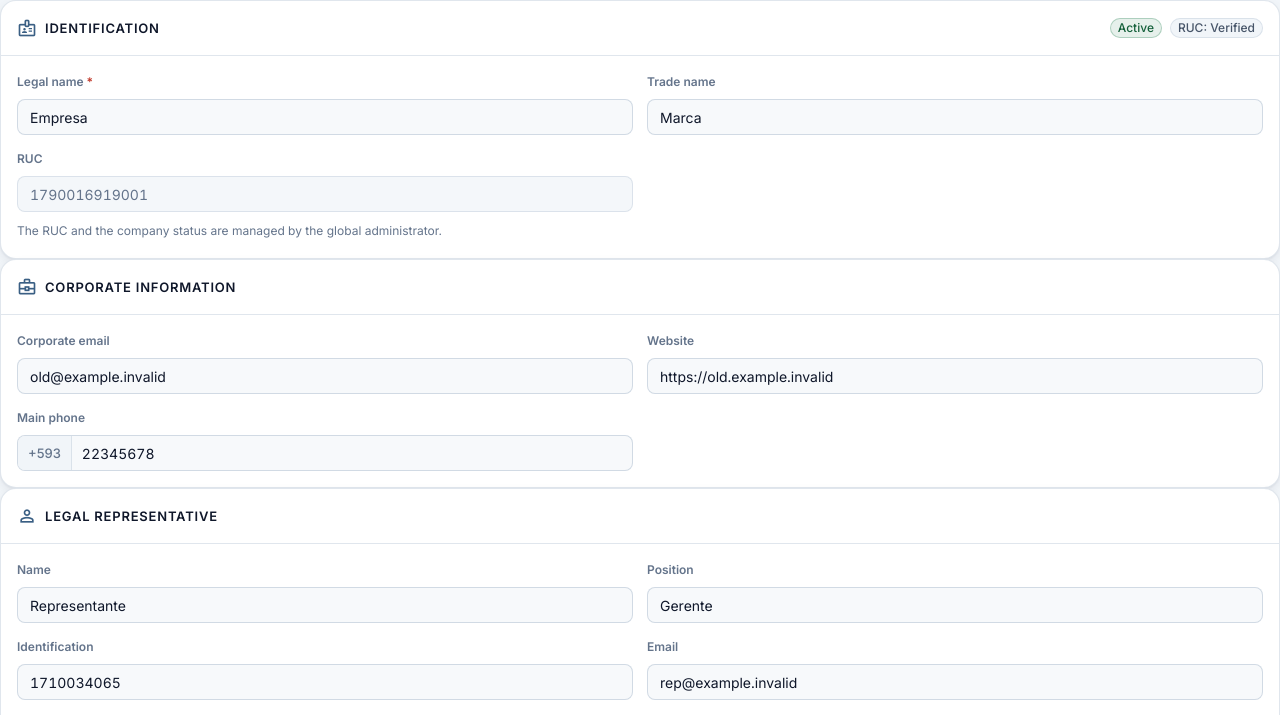
it: perfil completo y validación en en
This screenshot has width=1280, height=715.
Expected: the text "Corporate information" is shown, top-left (45, 276), bottom-right (236, 298)
Expected: the field with placeholder "Full name" is shown, top-left (17, 587), bottom-right (633, 623)
Replace the text in the field showing "old@example.invalid" with "invalid" at (325, 376), box top-left (17, 358), bottom-right (633, 394)
(page scrolled)
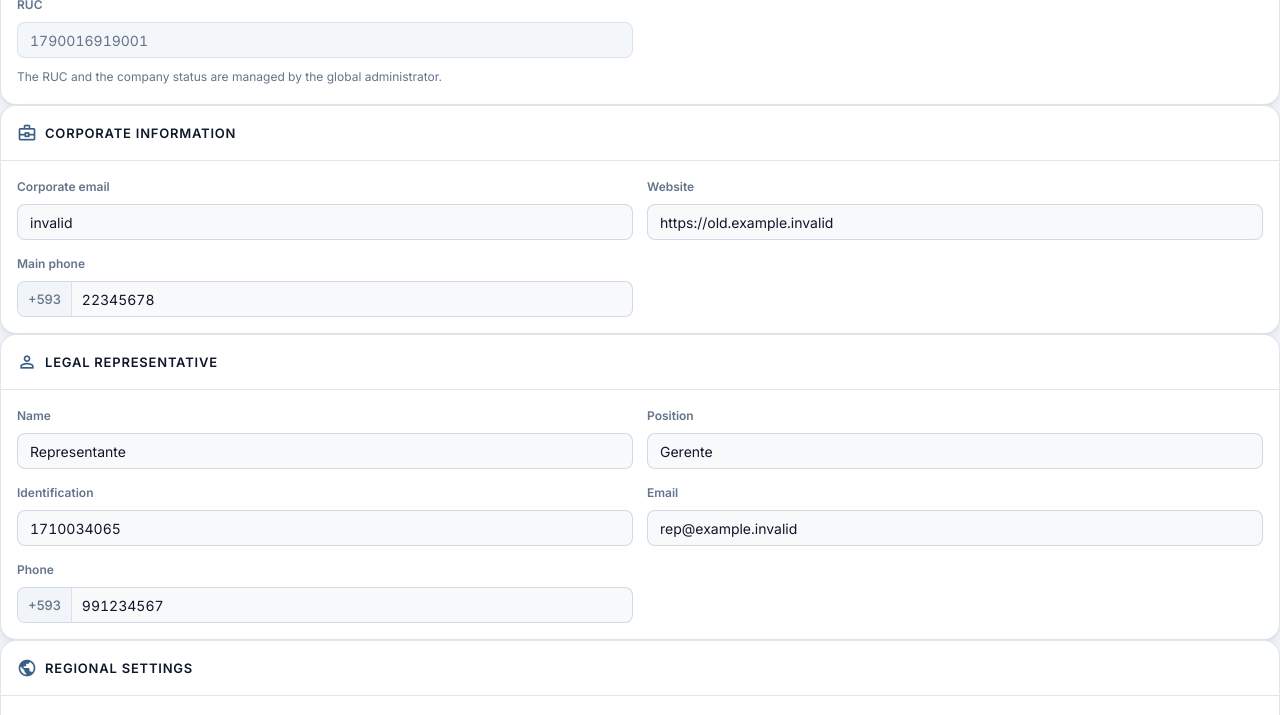
Submit the form
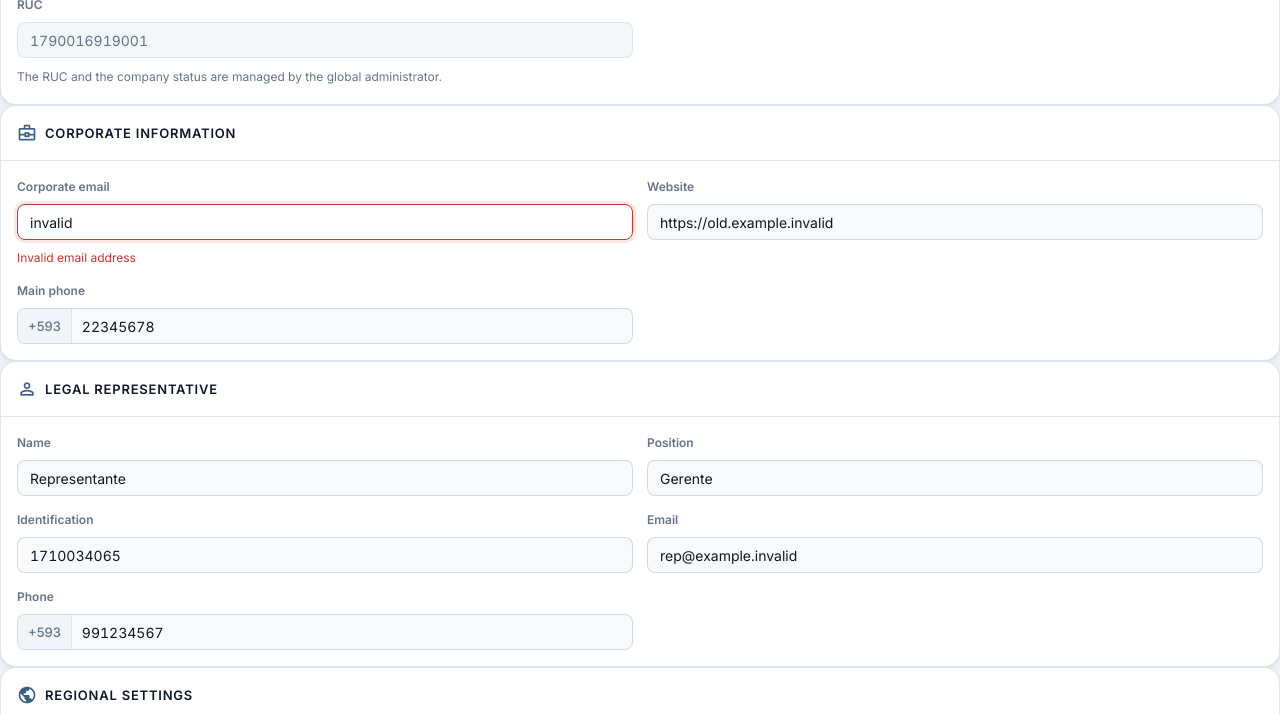
Expected: the text "Invalid email address" is shown, top-left (17, 250), bottom-right (136, 265)
